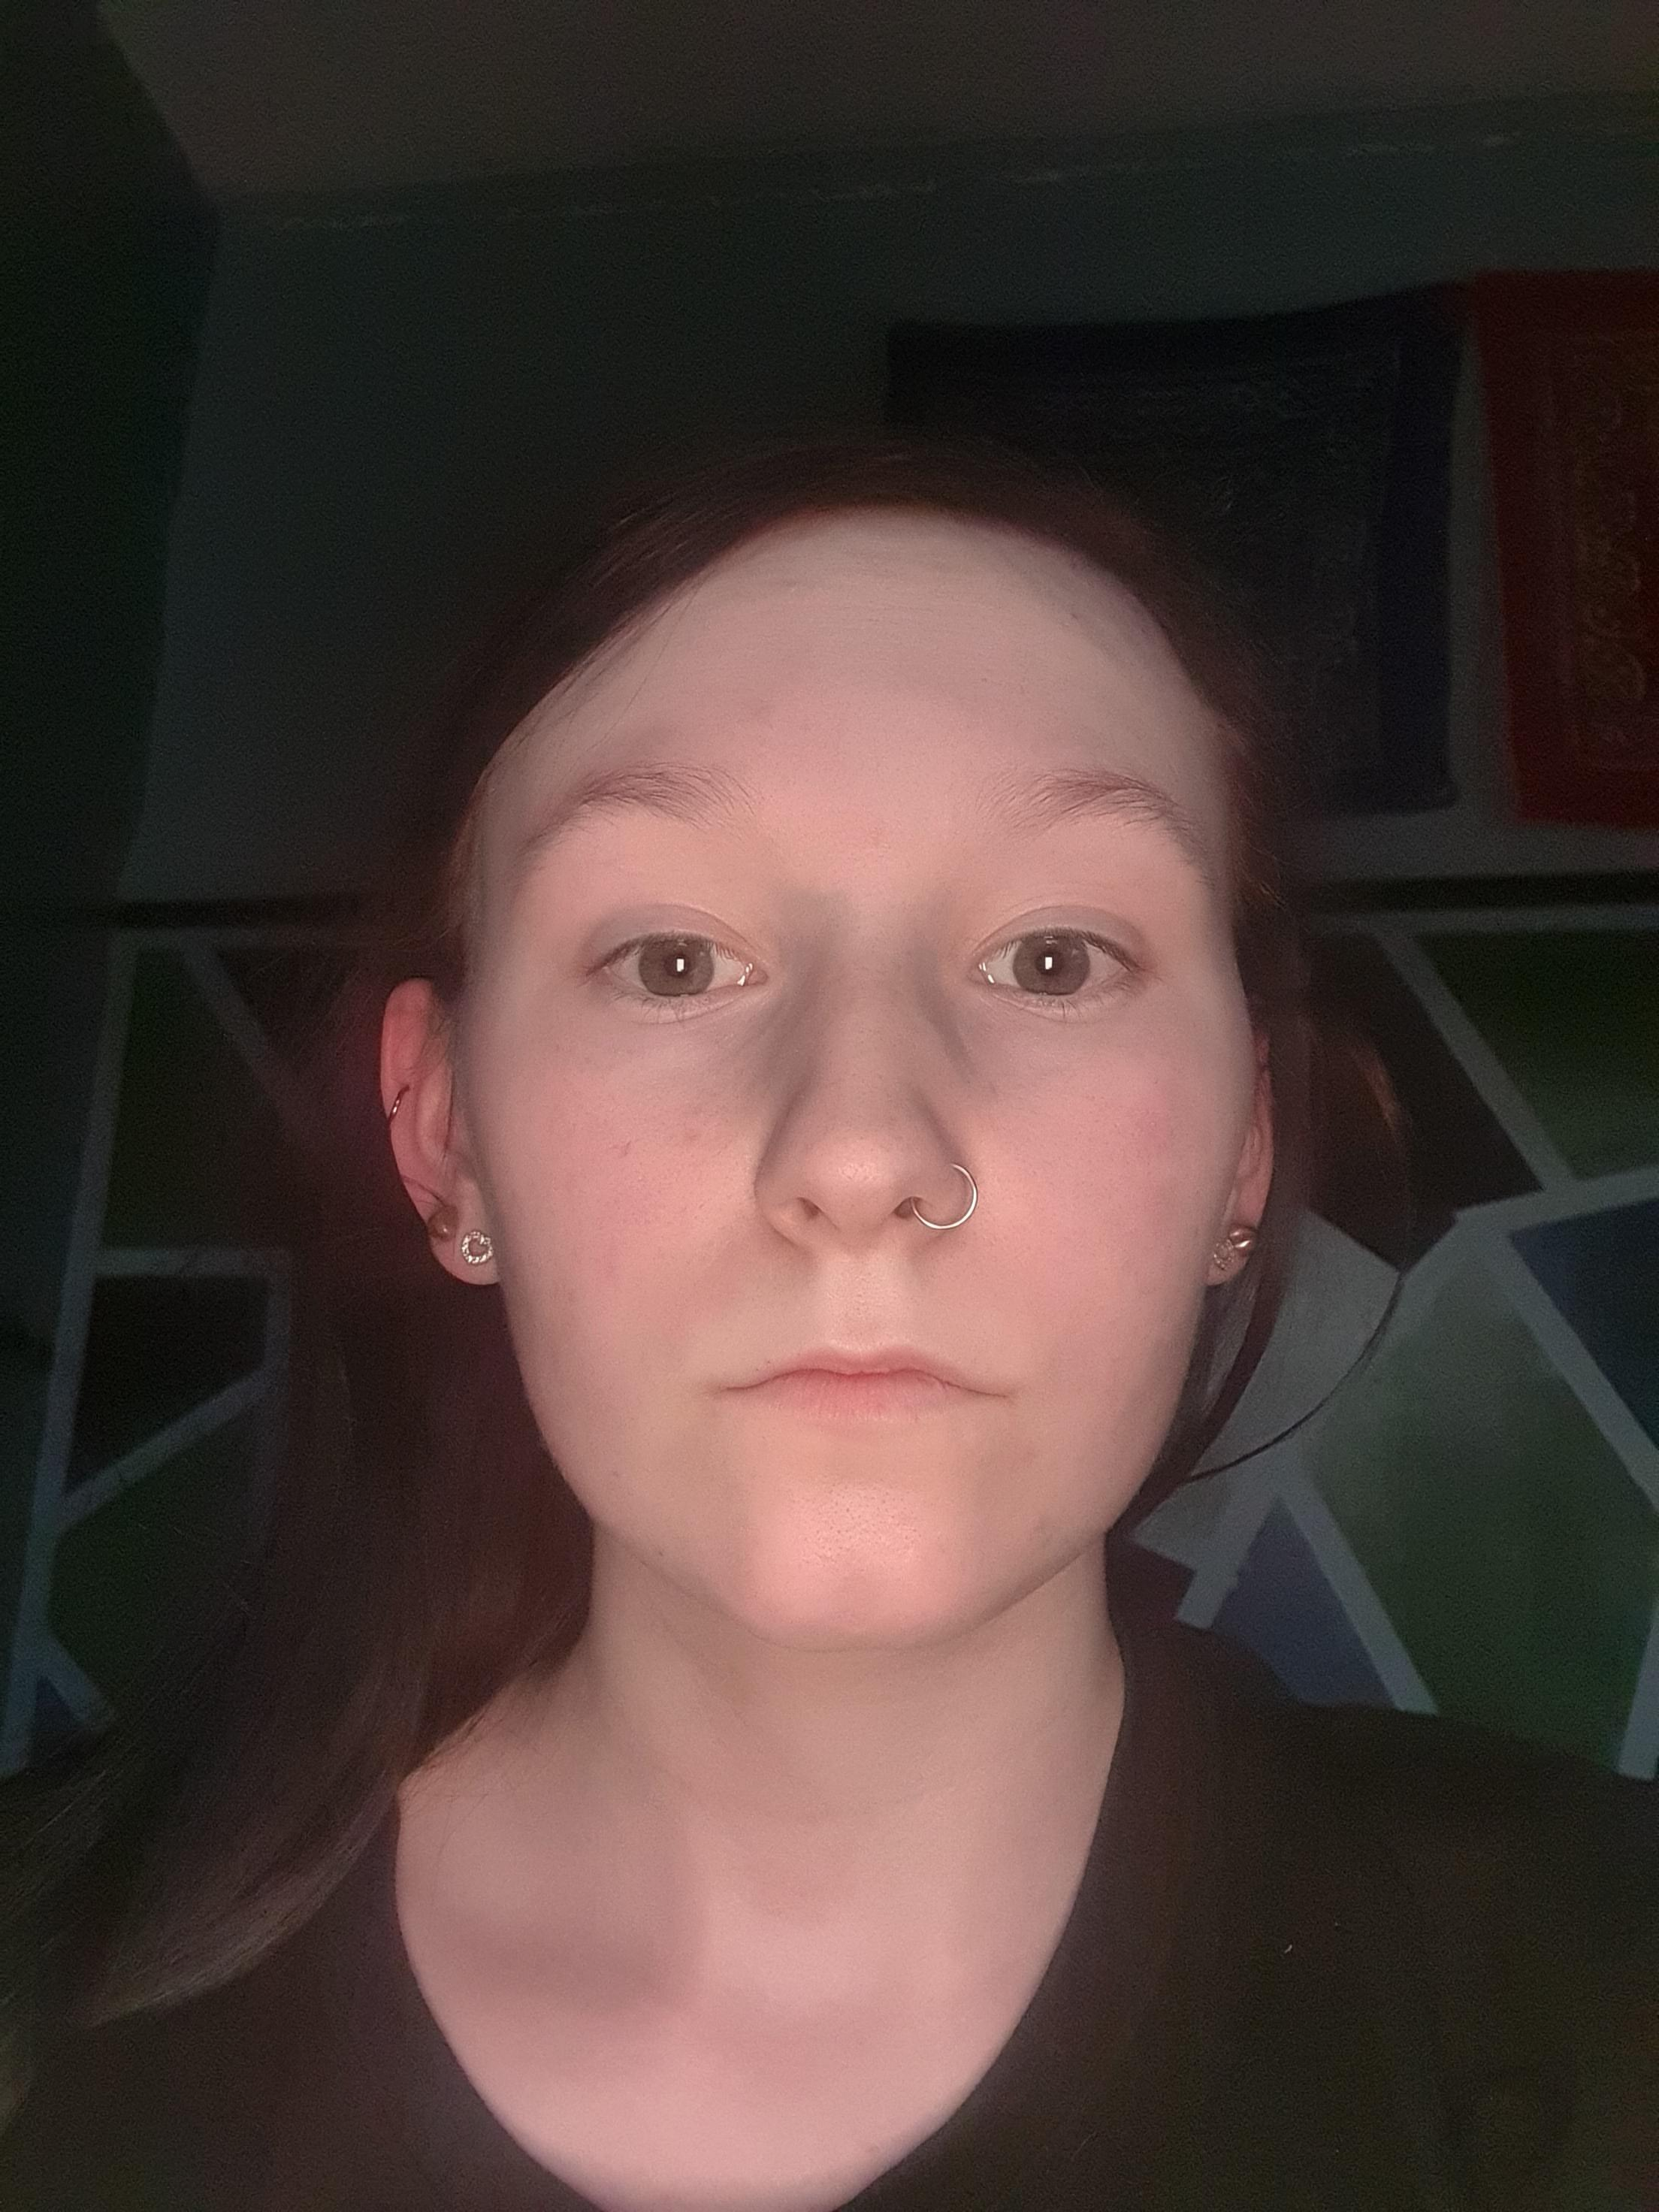Acne: (1025, 1505, 1072, 1557), (554, 1275, 596, 1306), (744, 702, 781, 735), (1054, 599, 1091, 631), (1016, 1442, 1051, 1474), (606, 1461, 641, 1493), (777, 575, 814, 594)
Blackheads: (789, 1472, 936, 1583), (814, 1087, 899, 1195)
Englarged-Pores: (983, 1097, 1136, 1240), (579, 1103, 709, 1249)
